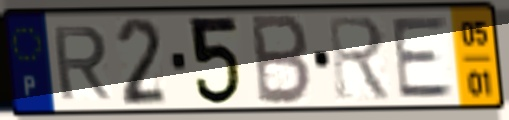2: (113, 15, 169, 109)
5: (184, 14, 246, 108)
B: (250, 12, 314, 108)
E: (389, 14, 458, 102)
R: (325, 14, 396, 104), (49, 23, 114, 103)
